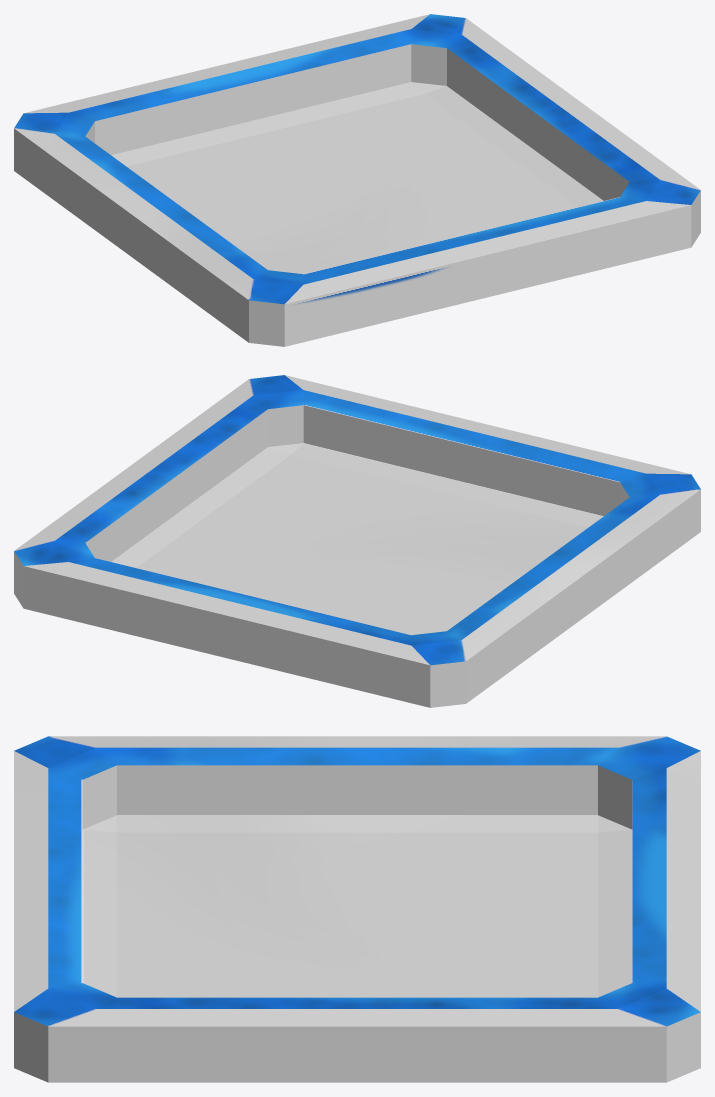
Rendered from Password_Pannel_base.fbx.
The picture shows the model from 3 angles, top to bottom: view 1: azimuth 30°, elevation 25°; view 2: azimuth 150°, elevation 25°; view 3: azimuth 270°, elevation 25°; orthographic projection. The views are drawn at different scales.
Visible parts, largest first — view 1: base; view 2: base; view 3: base.
Boxes of the visible parts, <box> form: base: <box>14,14,700,346</box>; base: <box>14,375,700,707</box>; base: <box>14,736,700,1082</box>.
Size of the model in its own units: 100 by 10 by 100.
